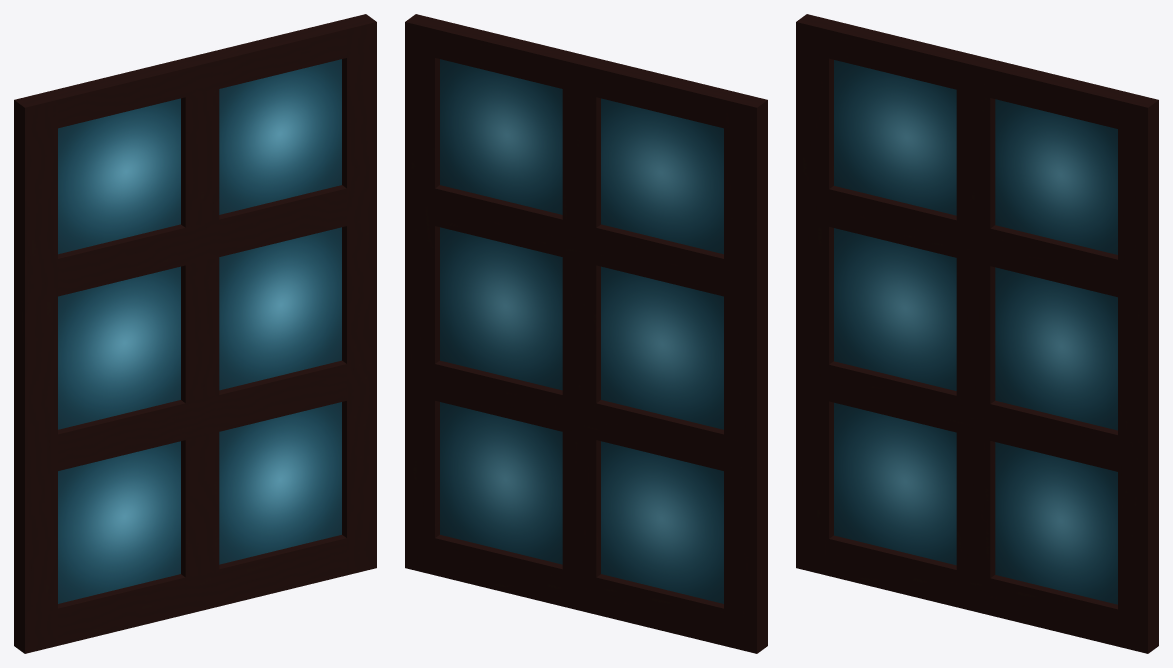
File: Window_Medium_D.FBX
The picture shows the model from 3 angles, left to right: view 1: azimuth 30°, elevation 25°; view 2: azimuth 150°, elevation 25°; view 3: azimuth 330°, elevation 25°; orthographic projection.
Visible parts, largest first — view 1: Window_Rectangular; view 2: Window_Rectangular; view 3: Window_Rectangular.
Boxes of the visible parts, x1,y1,x2,y2 form: Window_Rectangular: [14, 14, 376, 653]; Window_Rectangular: [405, 14, 767, 653]; Window_Rectangular: [796, 14, 1158, 653].
Bounding box in the file's own units: 150 × 222 × 8.
